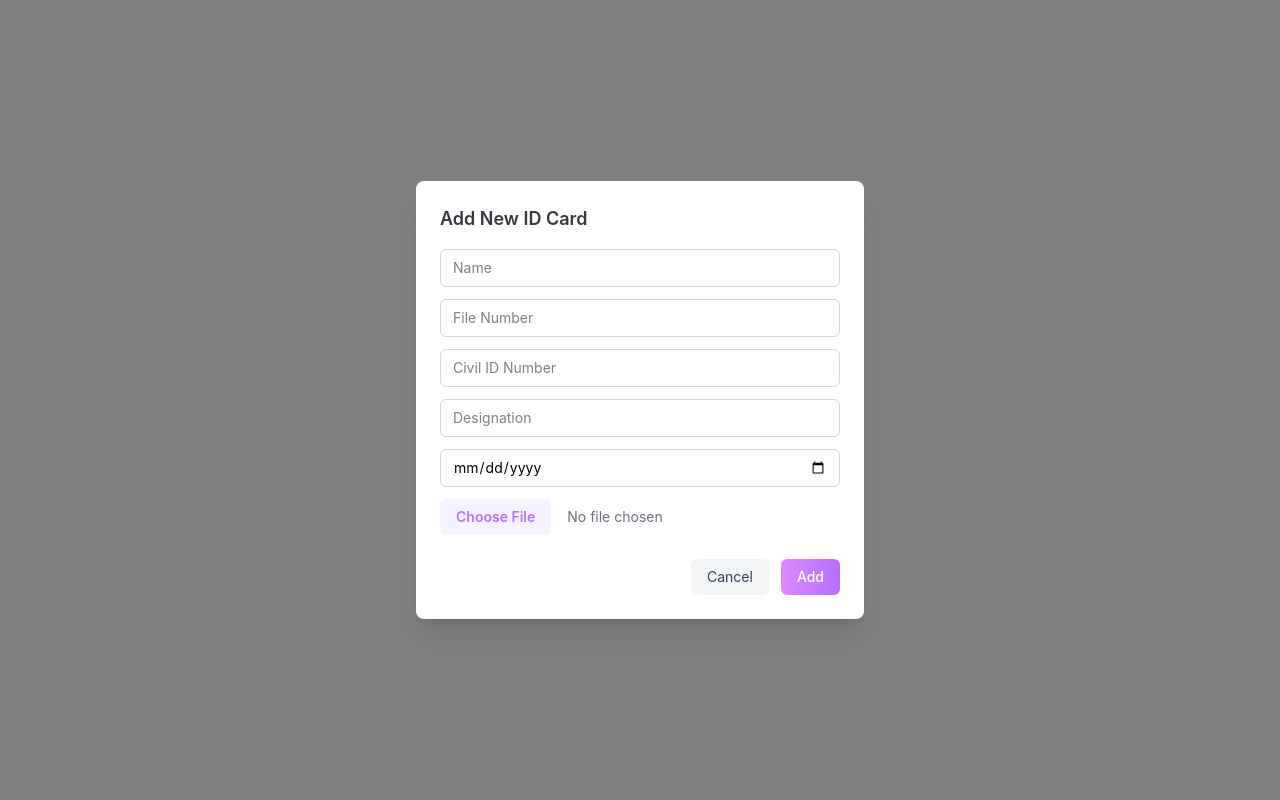
Test: AddIdCardModal Component › Form Submission › displays success message on successful submission
The image size is (1280, 800).
Type "John Doe" into the field with placeholder "Name" at (640, 268), box [440,249,840,287]
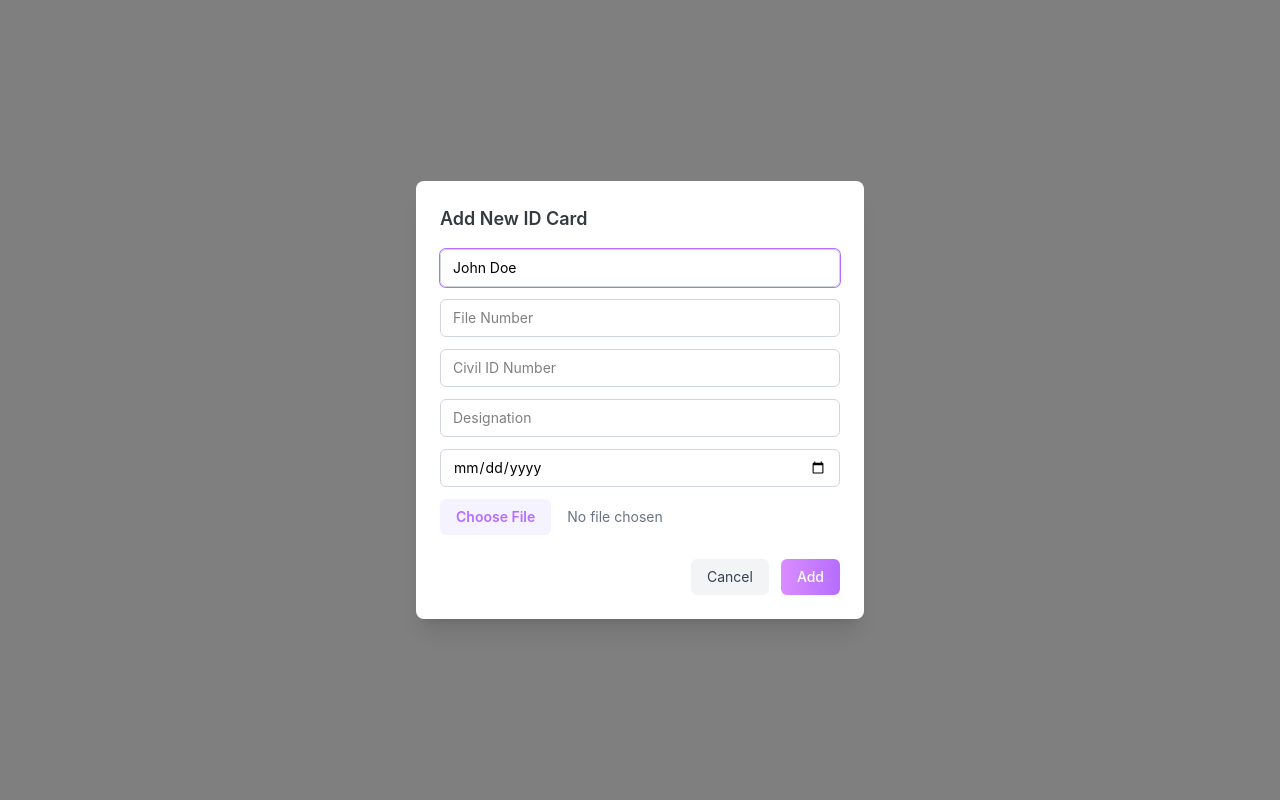
Type "FN123456" into the field with placeholder "File Number" at (640, 318), box [440,299,840,337]
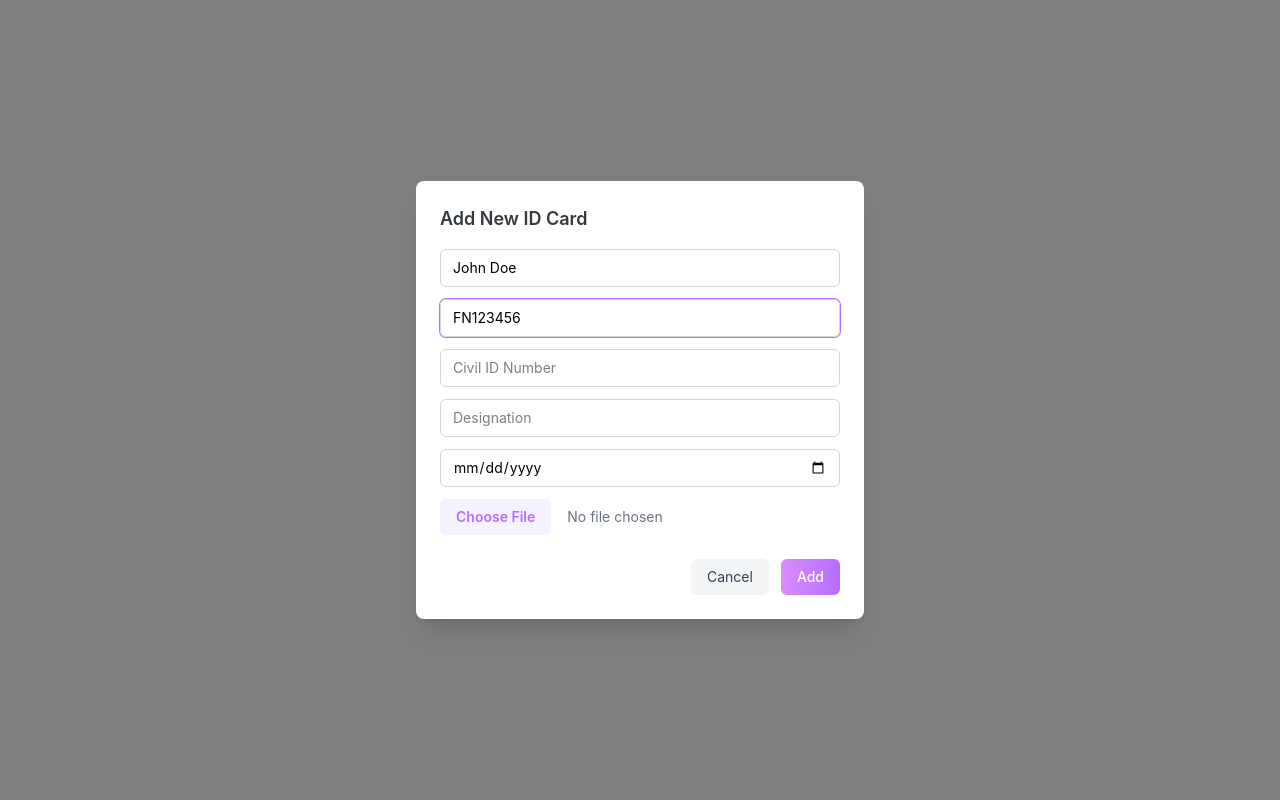
Type "CV987654" into the field with placeholder "Civil ID Number" at (640, 368), box [440,349,840,387]
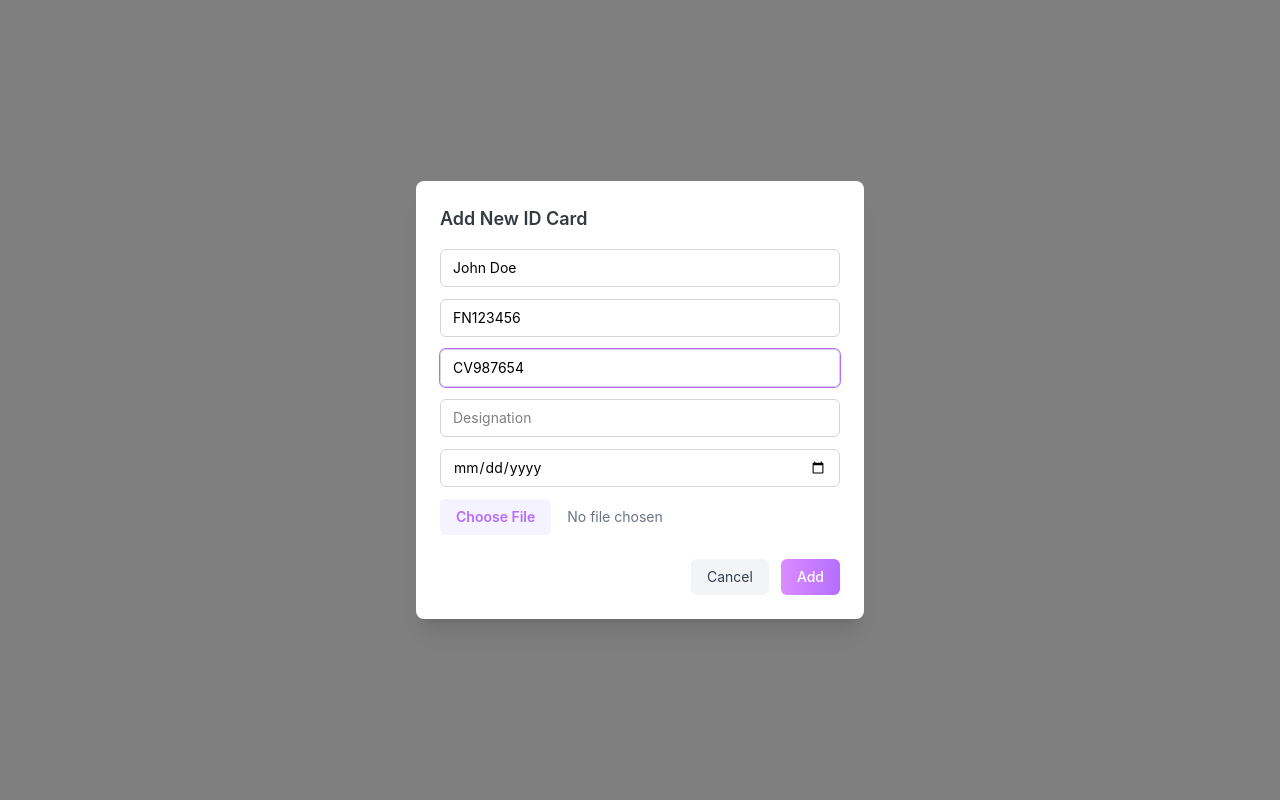
Click the button "Add" at (810, 577), box [781,559,840,595]
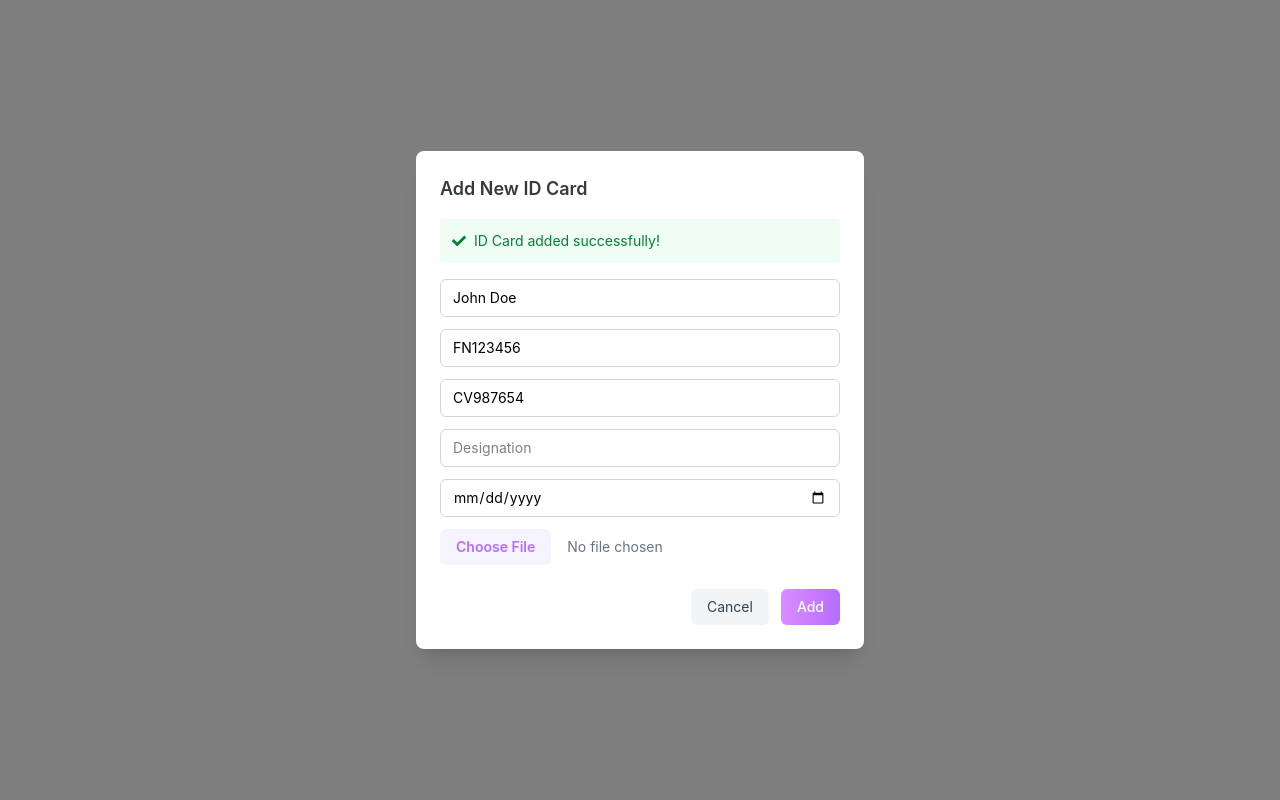
Expected: the text "ID Card added successfully!" is shown, [474,231,660,251]
